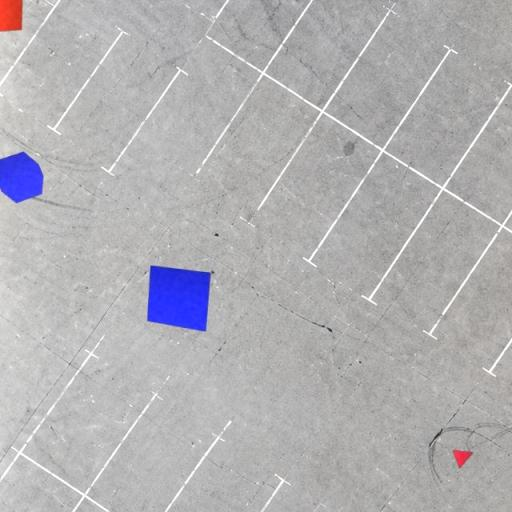BLUE_SQUARE: (146, 265, 212, 333)
RED_SQUARE: (0, 0, 23, 33)
